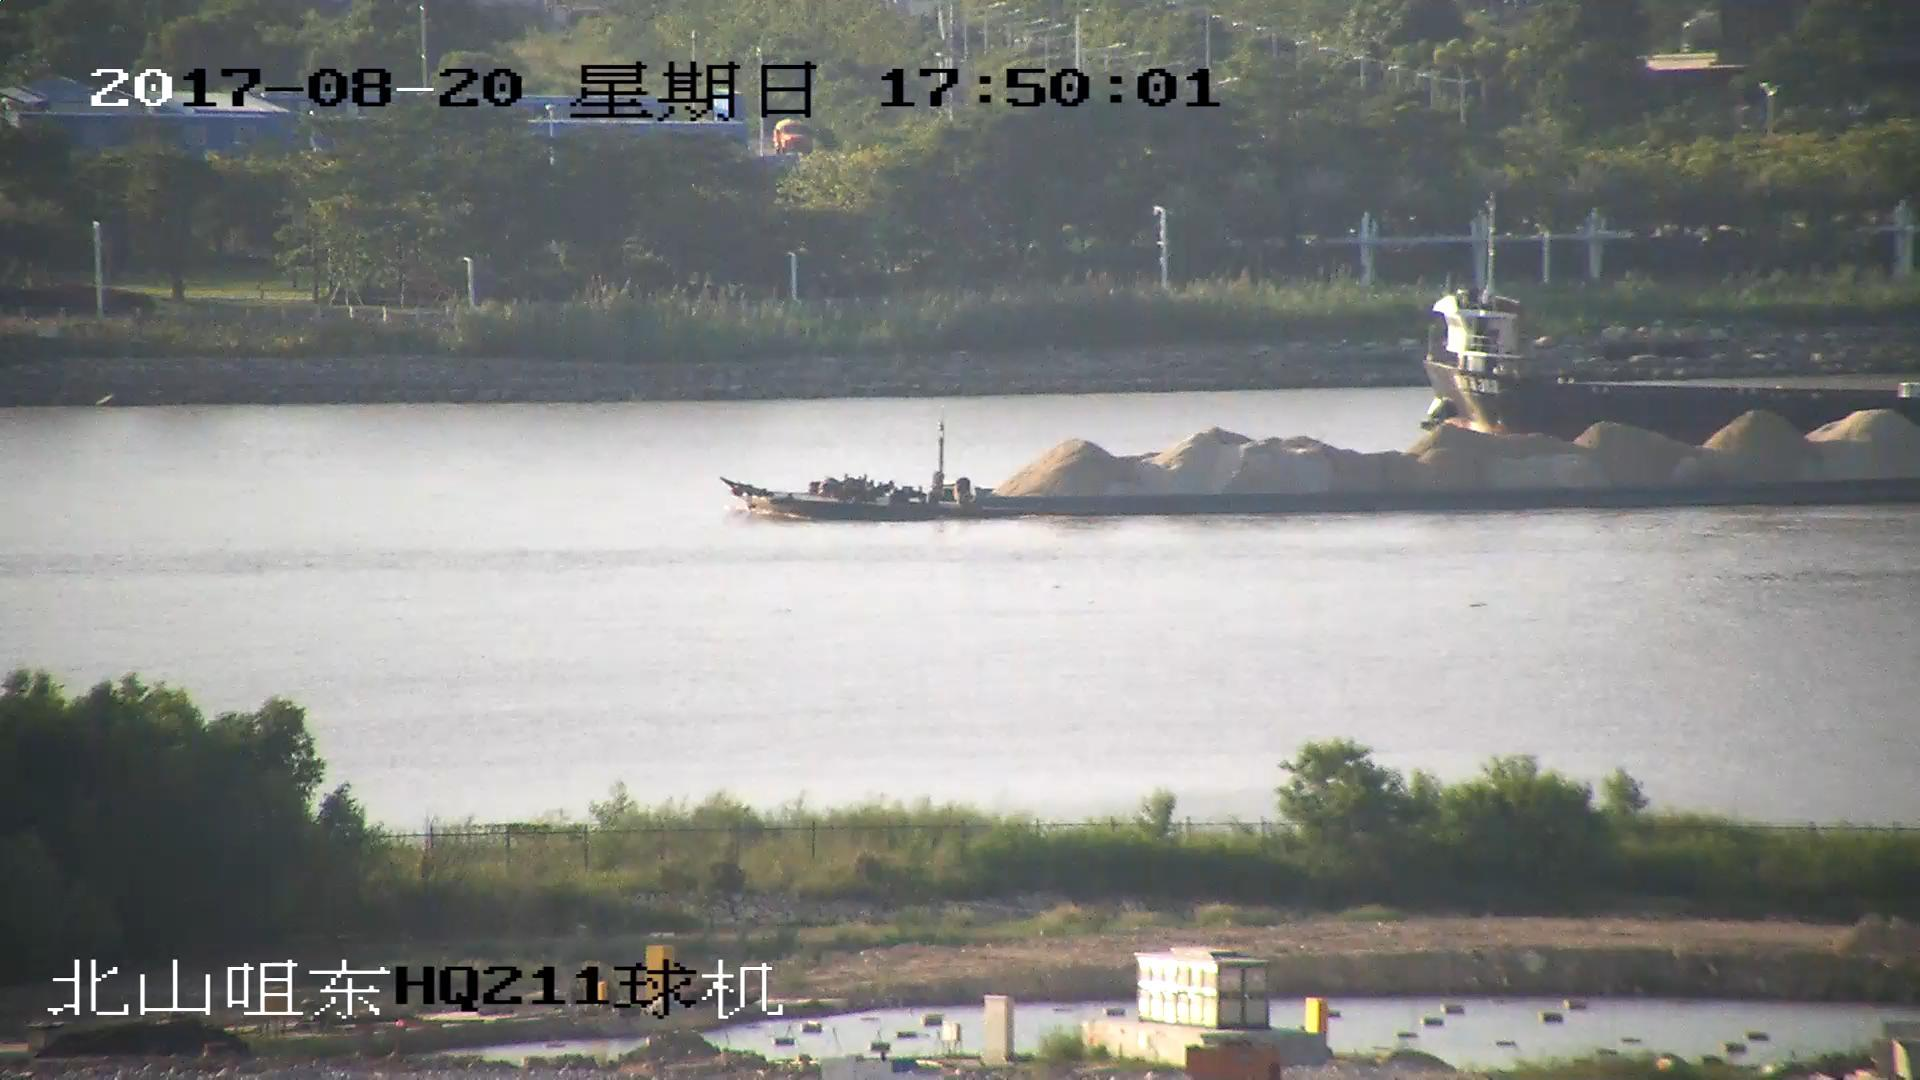Ship: (724, 406, 1920, 524), (1428, 198, 1920, 447)
